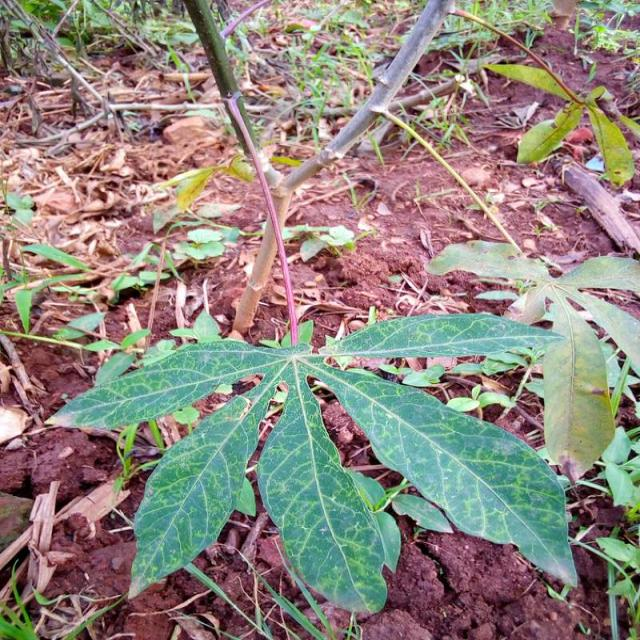cassava leaf: (296, 354, 578, 589), (255, 362, 392, 616), (126, 392, 260, 600), (541, 288, 615, 482)
